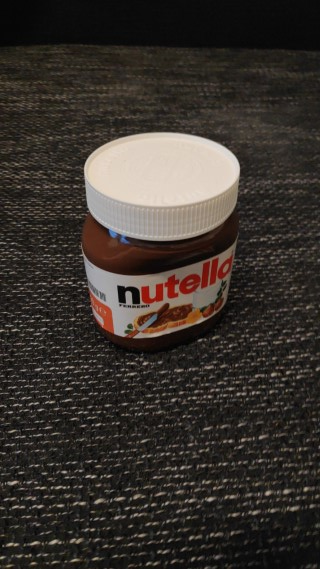nutella: (78, 129, 242, 356)
